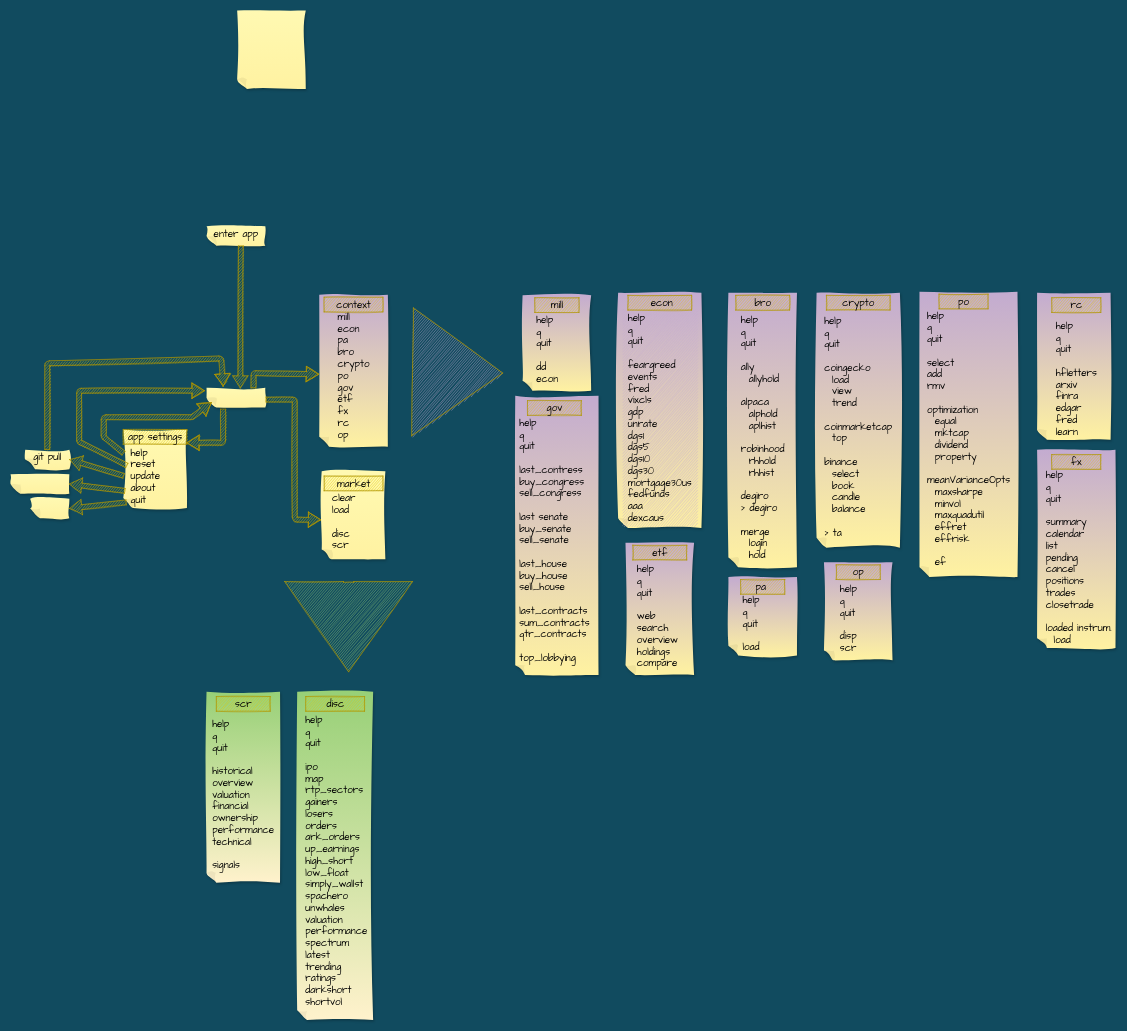
Some shapes in this 1127 by 1031 pixel diagram are drawn without their labels. Here are the shapes that lost their labels. From the top down, the centre of each, then its label:
the point at 236,398: app root
the point at 40,484: about page
the point at 50,508: close
